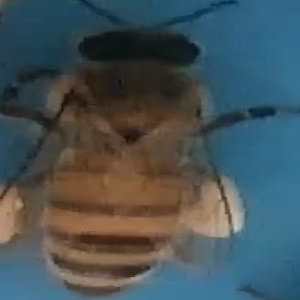bee: (5, 2, 285, 296)
